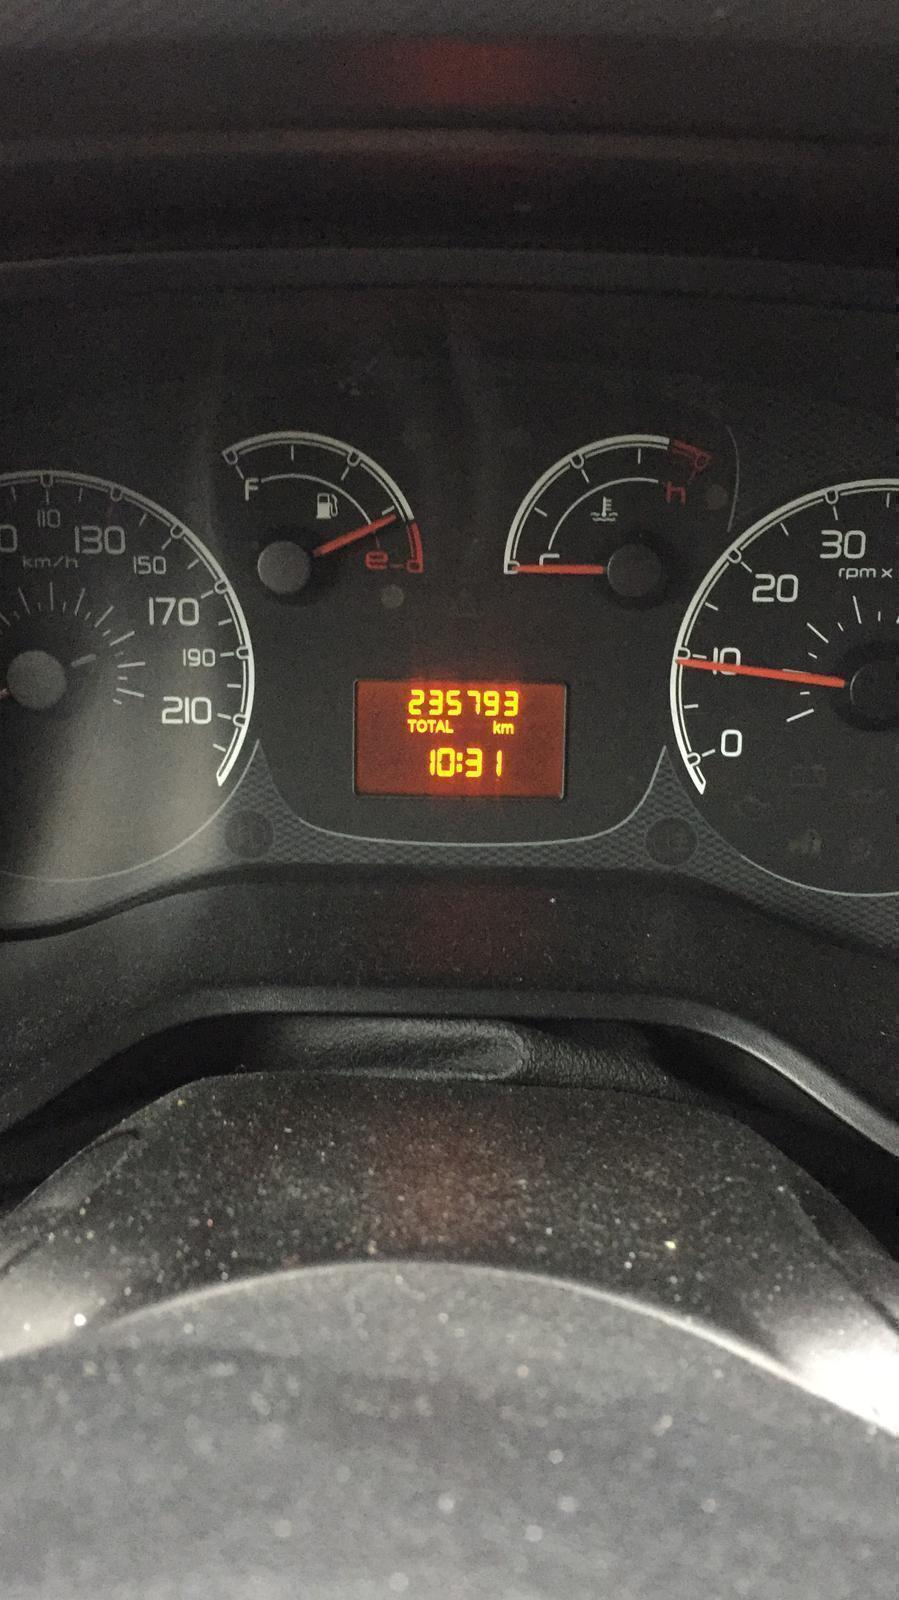0: (437, 747, 456, 776)
1: (491, 748, 504, 777), (425, 746, 436, 777)
2: (406, 688, 425, 716)
3: (464, 745, 482, 779), (428, 688, 445, 716), (503, 689, 519, 716)
5: (446, 688, 462, 716)
7: (464, 688, 481, 716)
9: (482, 688, 500, 716)
X: (499, 721, 514, 735), (417, 716, 428, 733), (406, 716, 417, 733), (455, 749, 463, 773), (444, 718, 454, 734), (435, 718, 445, 734), (428, 716, 436, 734), (491, 719, 500, 734)
odometer: (349, 676, 570, 801)
